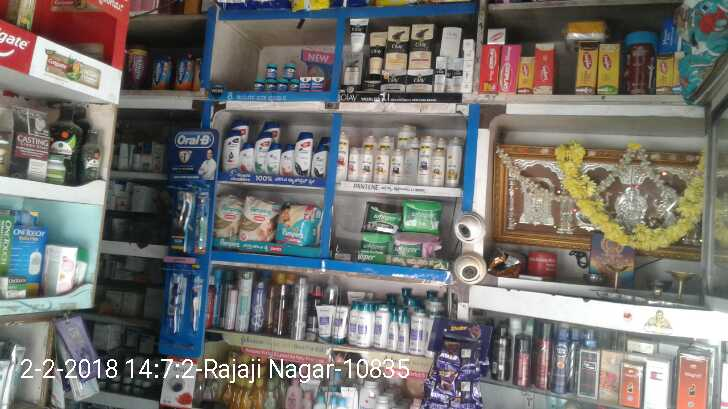beauty: (405, 26, 431, 71), (385, 24, 407, 72), (222, 123, 239, 174), (365, 30, 381, 81), (446, 147, 463, 191), (346, 13, 366, 49), (252, 132, 268, 176), (293, 130, 307, 179), (413, 146, 431, 184), (311, 139, 328, 179), (373, 151, 390, 187), (378, 72, 407, 93), (428, 151, 445, 185), (358, 143, 372, 184), (408, 69, 432, 92), (389, 149, 404, 185), (343, 55, 361, 85), (239, 137, 252, 176), (267, 139, 281, 174), (346, 146, 357, 185), (284, 145, 293, 181), (435, 57, 444, 93)
pharmacy: (275, 200, 317, 247), (237, 195, 274, 244), (361, 202, 399, 234), (402, 196, 435, 229), (214, 199, 239, 241), (394, 232, 436, 257), (358, 234, 388, 256), (263, 60, 275, 79), (297, 76, 310, 91), (262, 78, 275, 93), (281, 61, 293, 77), (275, 77, 287, 93), (287, 76, 299, 92), (310, 74, 322, 89), (252, 78, 261, 92)
